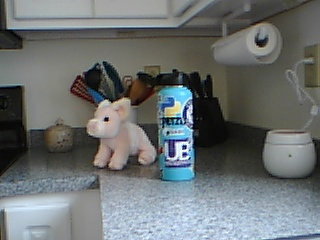piggy: (86, 96, 157, 172)
